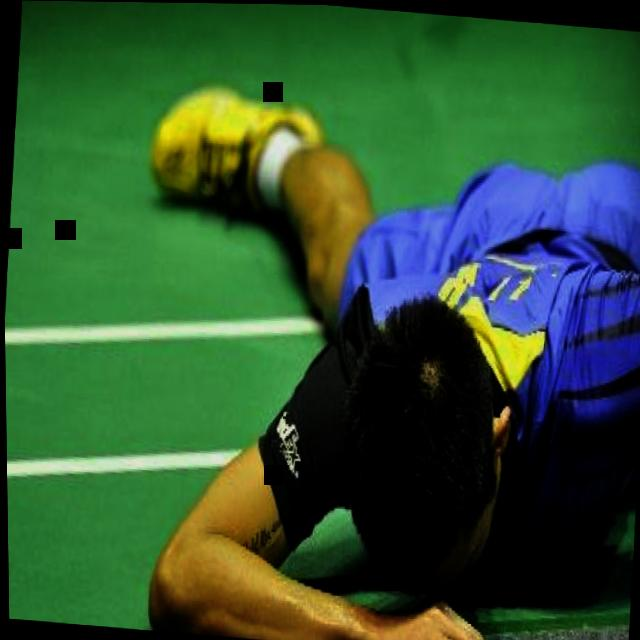Fall-Detected: (113, 1, 640, 640)
